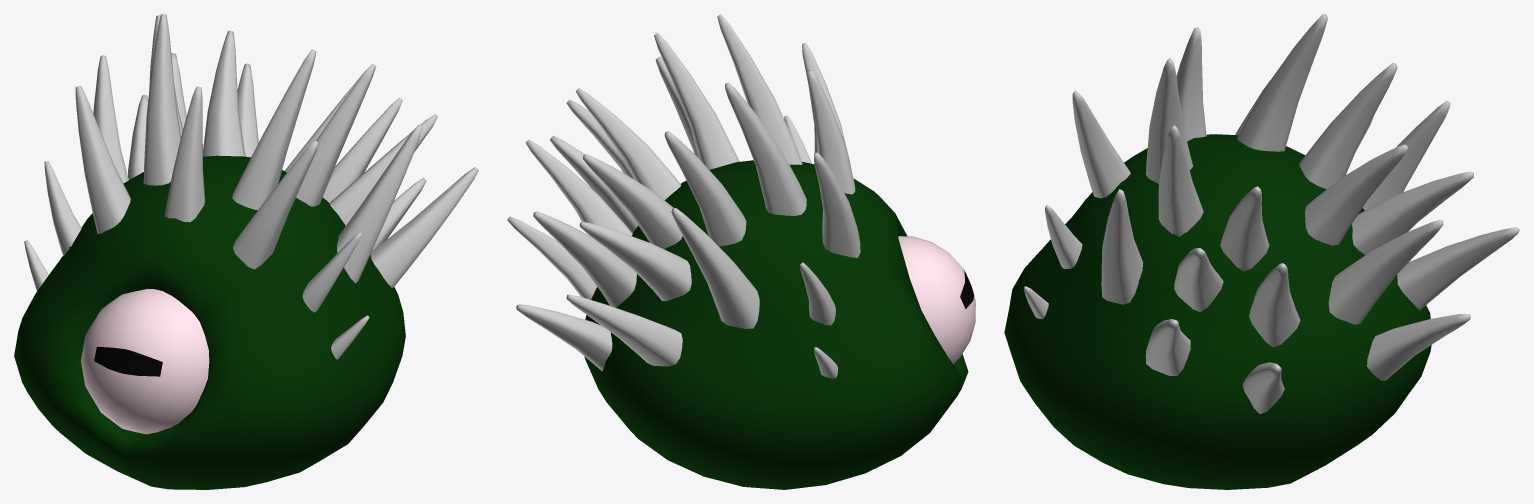
Rendered from spiky.obj.
3 renders of one model, left to right at view 1: azimuth 30°, elevation 25°; view 2: azimuth 150°, elevation 25°; view 3: azimuth 270°, elevation 25°, orthographic. The views are drawn at different scales.
Visible parts, largest first — view 1: GreenSpikyBlob; view 2: GreenSpikyBlob; view 3: GreenSpikyBlob.
Part boxes in pixels (<box>): GreenSpikyBlob: <box>14,14,478,489</box>; GreenSpikyBlob: <box>507,14,975,489</box>; GreenSpikyBlob: <box>1004,14,1519,489</box>.
Size of the model in its own units: 2.16 by 2.11 by 2.14.
